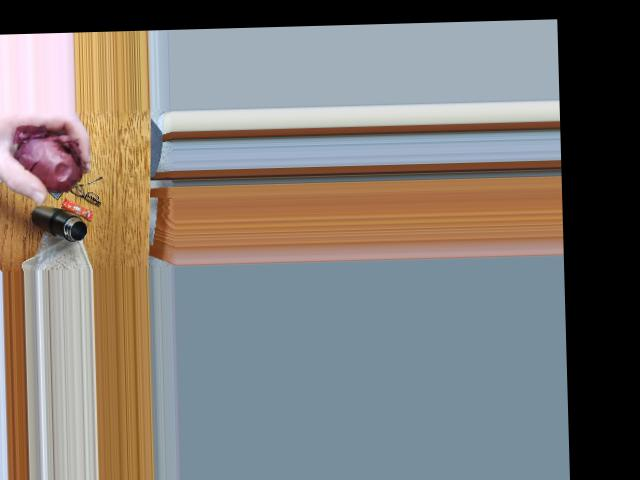onion: (7, 130, 83, 191)
